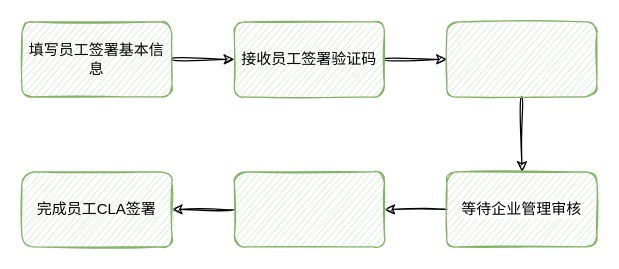
This 619x269 diagram has some shape labels left out. The shapes that lost their labels are listed below. From the top down, each one's box as (x1, y1, x2, y2) in pixels, then its label:
(446, 21, 597, 97): 提交签署信息
(233, 171, 384, 247): 审核完成
